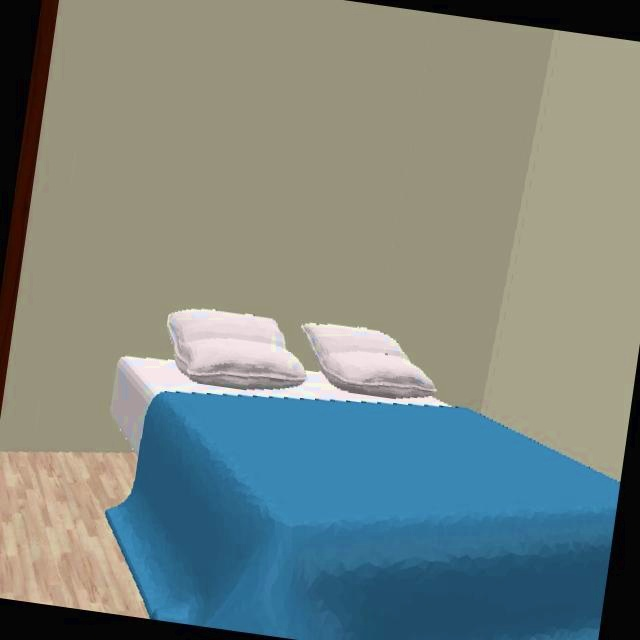bed: (105, 310, 620, 640)
pillow: (166, 310, 308, 398), (299, 323, 436, 400)
wardrobe: (0, 60, 41, 434)
